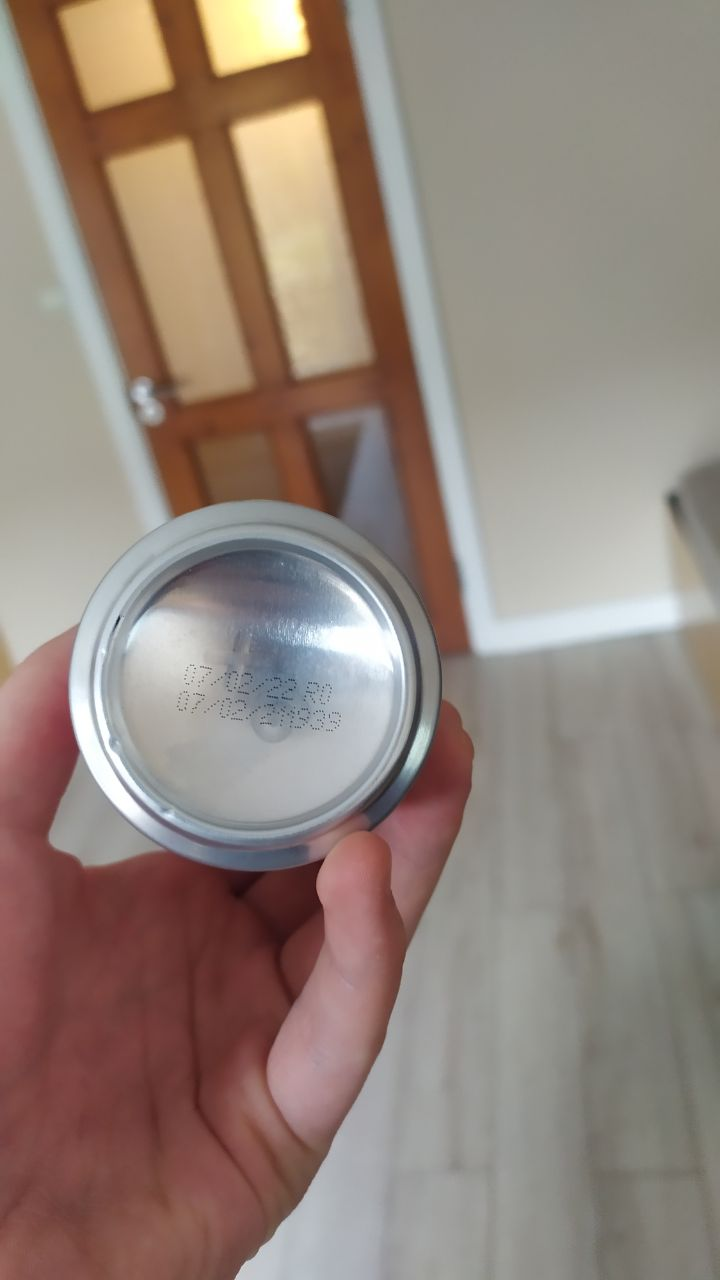Can: (71, 492, 431, 869)
